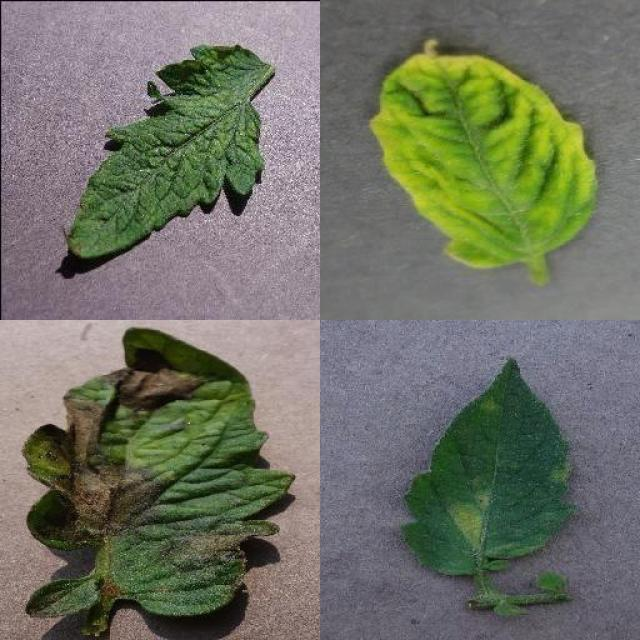Late Blight: (22, 326, 298, 622)
